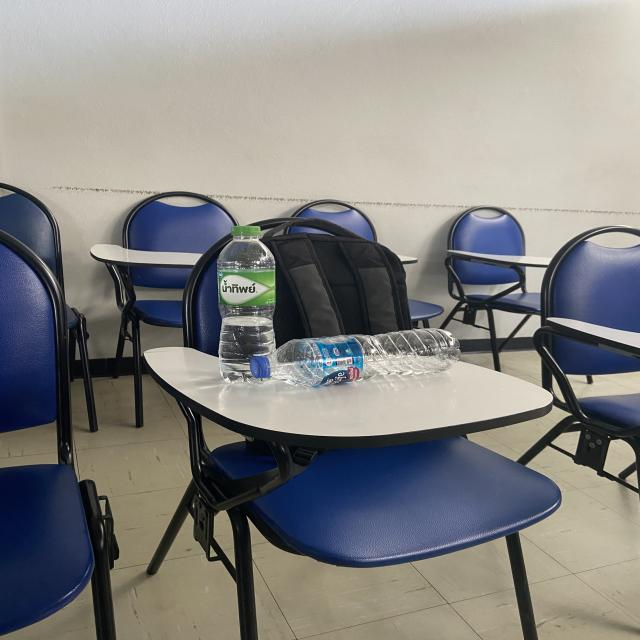bottle: (250, 327, 460, 388), (217, 225, 279, 385)
